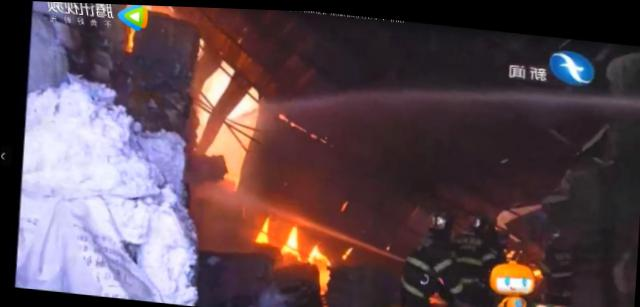fire: (317, 254, 333, 294), (282, 221, 299, 256), (307, 240, 323, 262), (255, 215, 269, 240)
